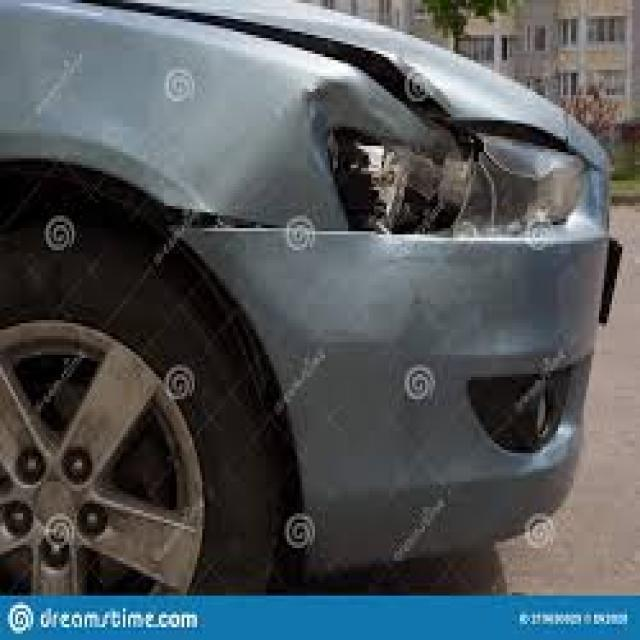damaged-head-light: (305, 107, 597, 241)
